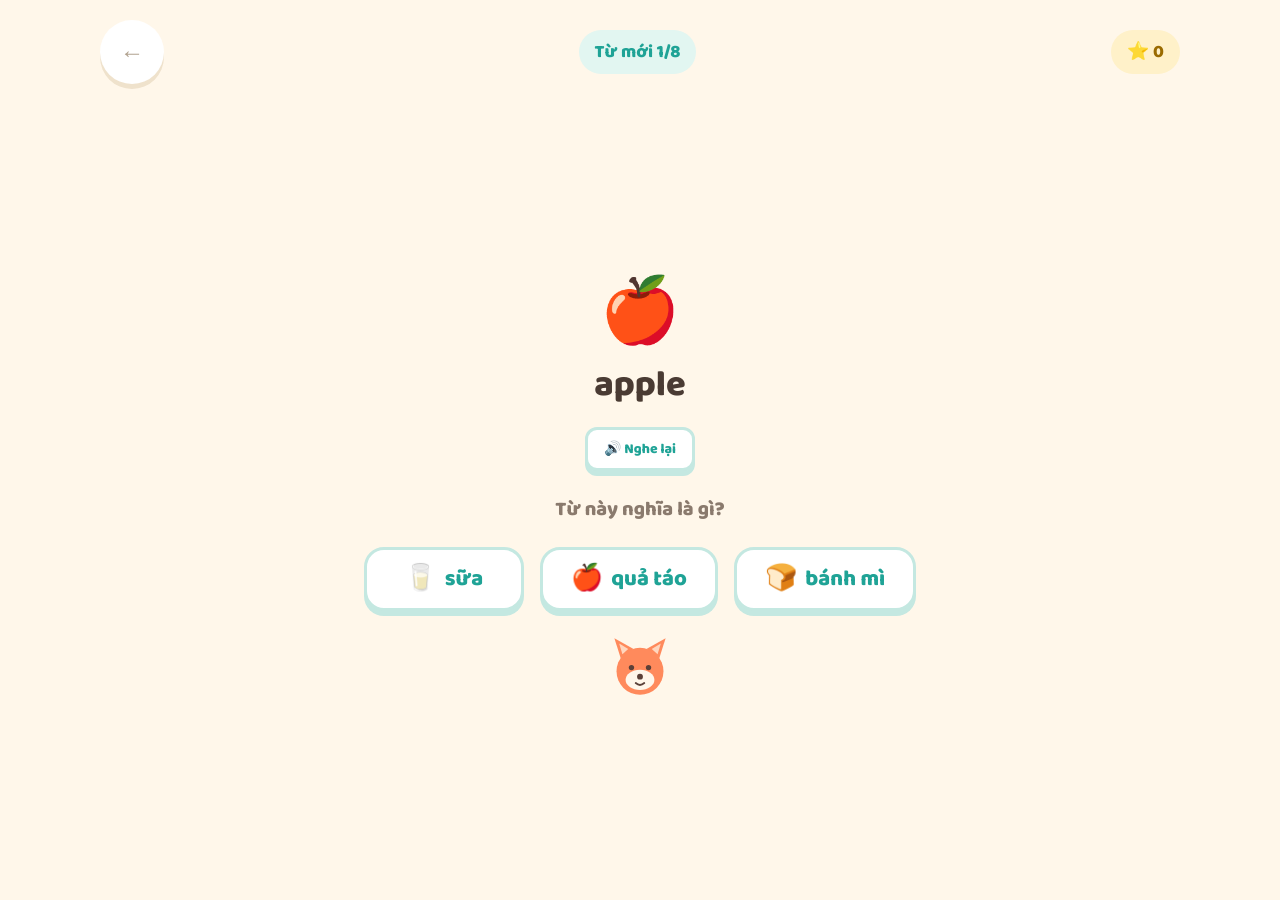
Test: shows the missing-audio notice when sample playback fails
This screenshot has width=1280, height=900.
Click the button "🍎 quả táo": [629, 579] box left=540, top=547, right=718, bottom=611
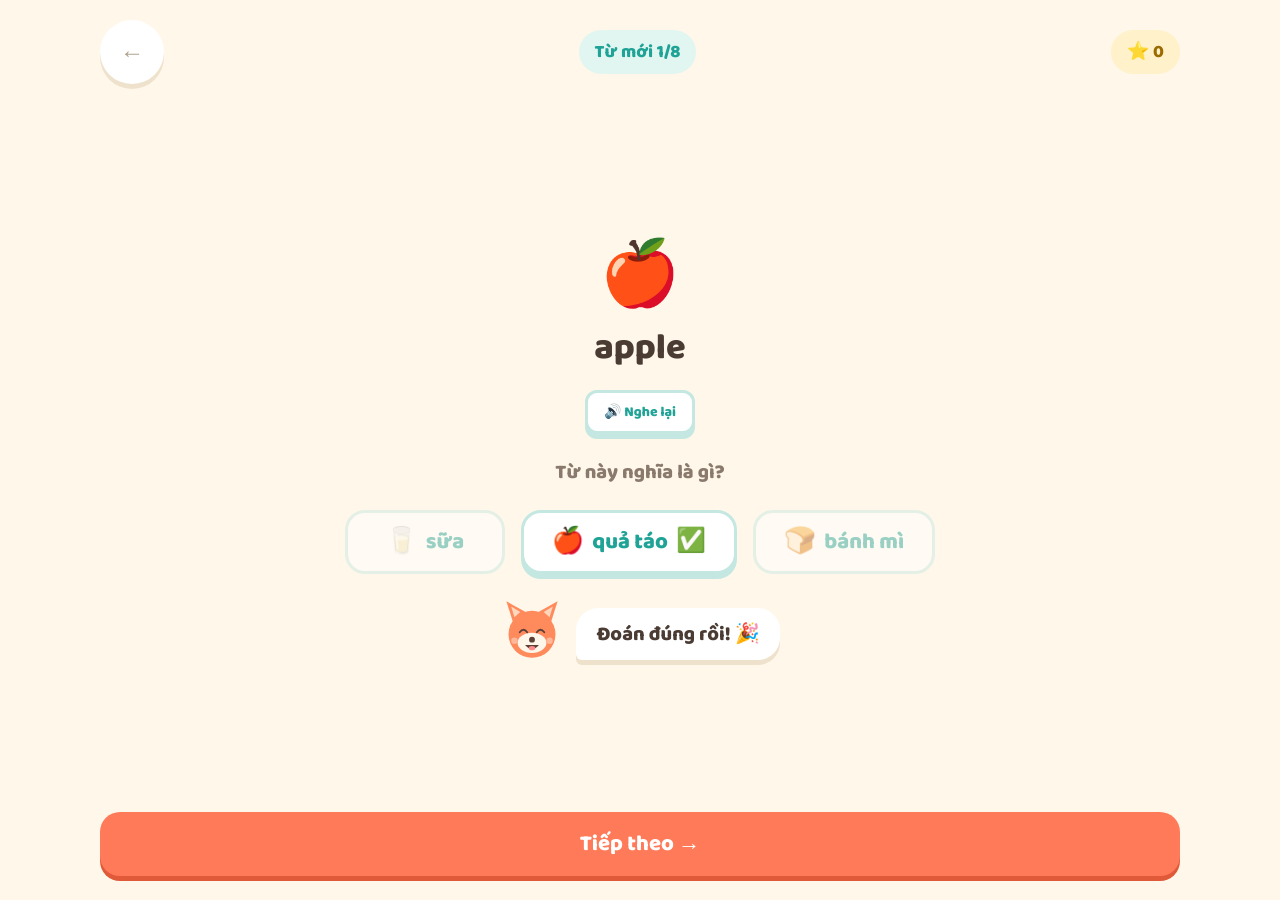
Click the button "Tiếp theo →": [640, 844] box left=100, top=812, right=1180, bottom=876
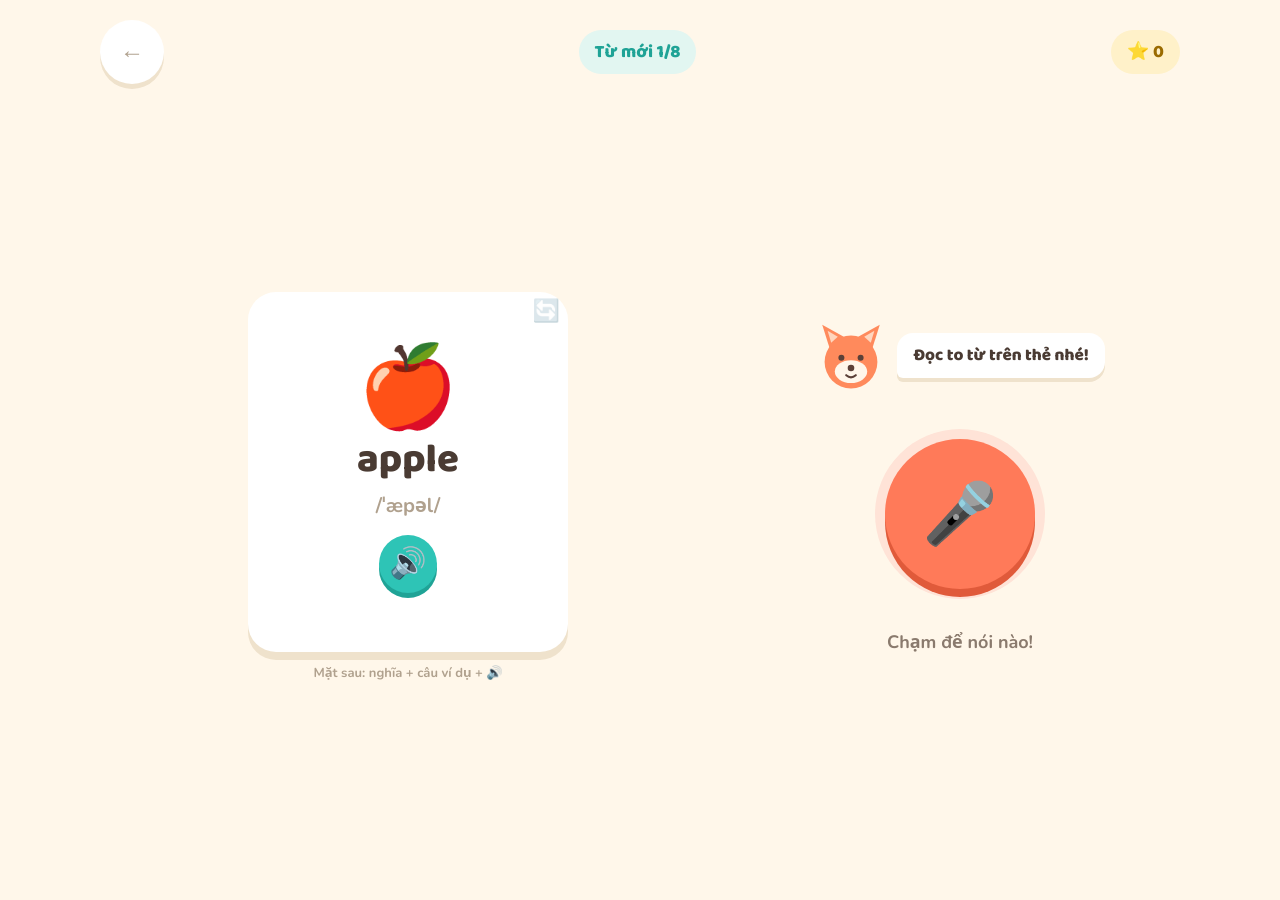
Click the button named "Nghe mẫu": [408, 564] box left=376, top=532, right=440, bottom=596
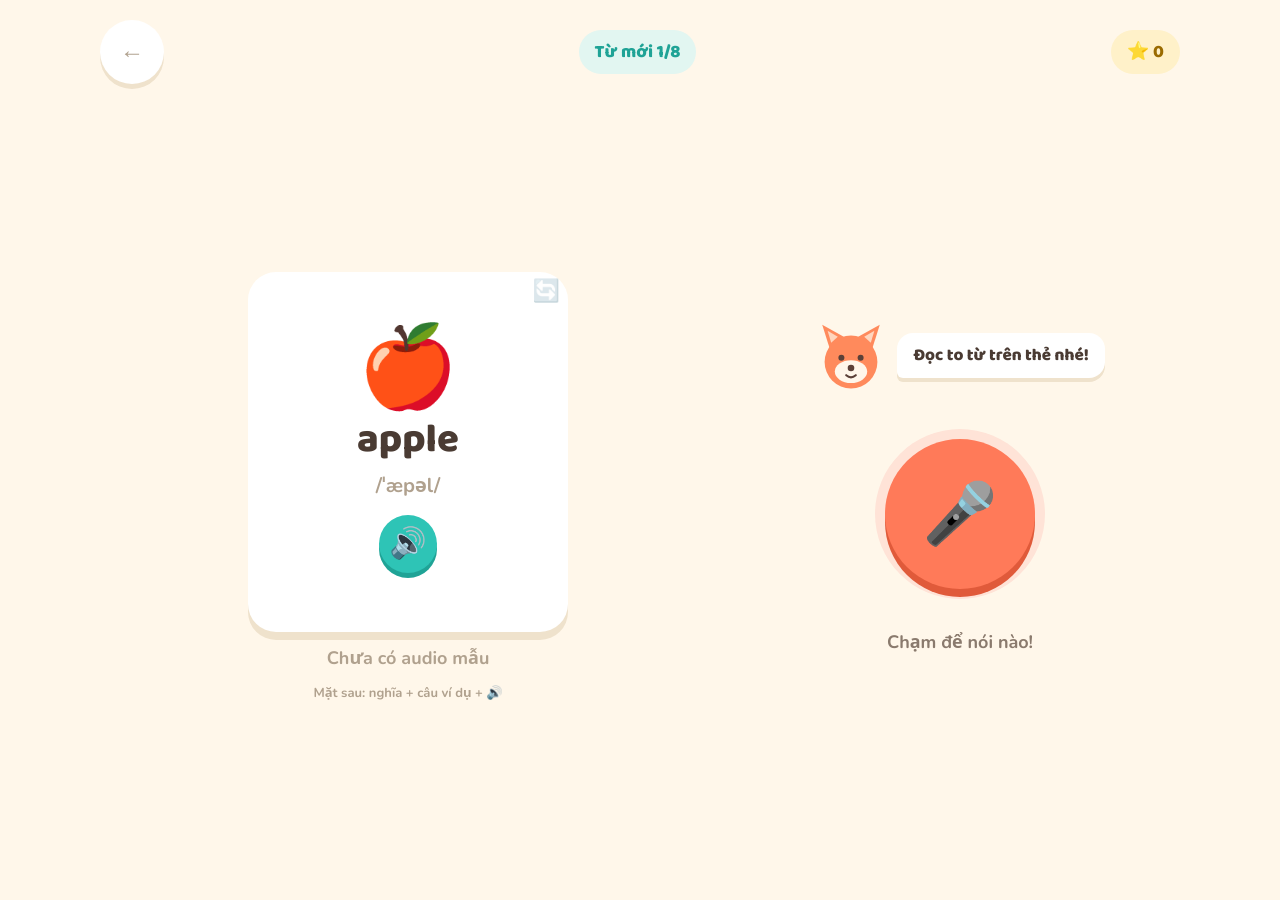
Expected: the text "Chưa có audio mẫu" is shown, left=327, top=644, right=489, bottom=672
